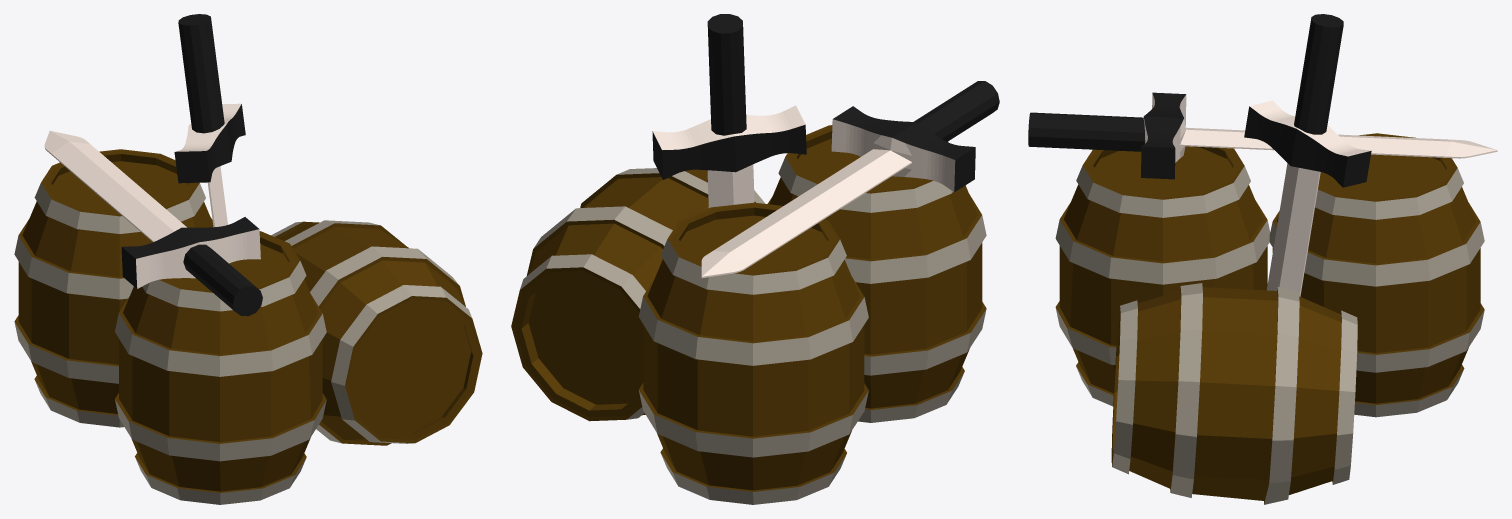
File: barrel-with-sword.glb
3 views of the same model, side by side, from view 1: azimuth 30°, elevation 25°; view 2: azimuth 150°, elevation 25°; view 3: azimuth 270°, elevation 25° (orthographic). The views are drawn at different scales.
Parts seen in each view (by area): view 1: Barrel, Cylinder.003, Cylinder.002, Cube, Normal Sword; view 2: Cylinder.002, Barrel, Cylinder.003, Cube, Normal Sword; view 3: Cylinder.003, Cylinder.002, Barrel, Normal Sword, Cube.
Boxes of the visible parts, x1,y1,x2,y2 form: Barrel: (115,231,326,504); Cylinder.003: (271,220,482,445); Cylinder.002: (14,149,213,427); Cube: (44,130,262,316); Normal Sword: (174,14,245,227); Cylinder.002: (638,202,868,504); Barrel: (767,125,986,422); Cylinder.003: (511,168,765,421); Cube: (701,81,999,278); Normal Sword: (652,14,806,207); Cylinder.003: (1111,283,1357,504); Cylinder.002: (1269,133,1484,417); Barrel: (1055,146,1270,406); Normal Sword: (1244,14,1371,296); Cube: (1028,92,1497,179).
Size of the model in its own units: 5.36 by 6.02 by 6.05.
